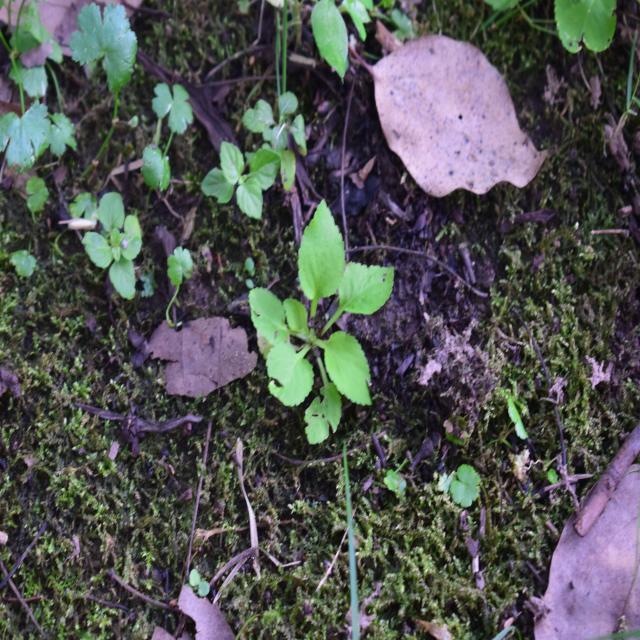Viola: (254, 205, 381, 426)
